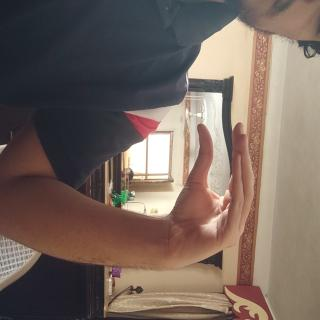JEEM: (85, 79, 208, 229)
